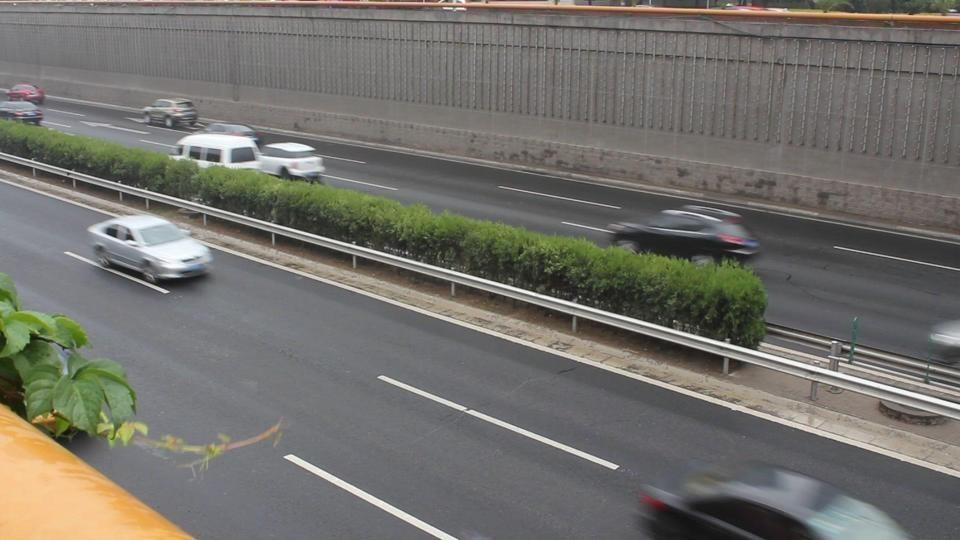car: (636, 461, 908, 538), (86, 212, 215, 283), (607, 204, 762, 263), (174, 131, 262, 167), (255, 141, 326, 185), (143, 97, 199, 130), (926, 318, 960, 370), (203, 122, 262, 146), (0, 98, 44, 126), (7, 82, 46, 105)
